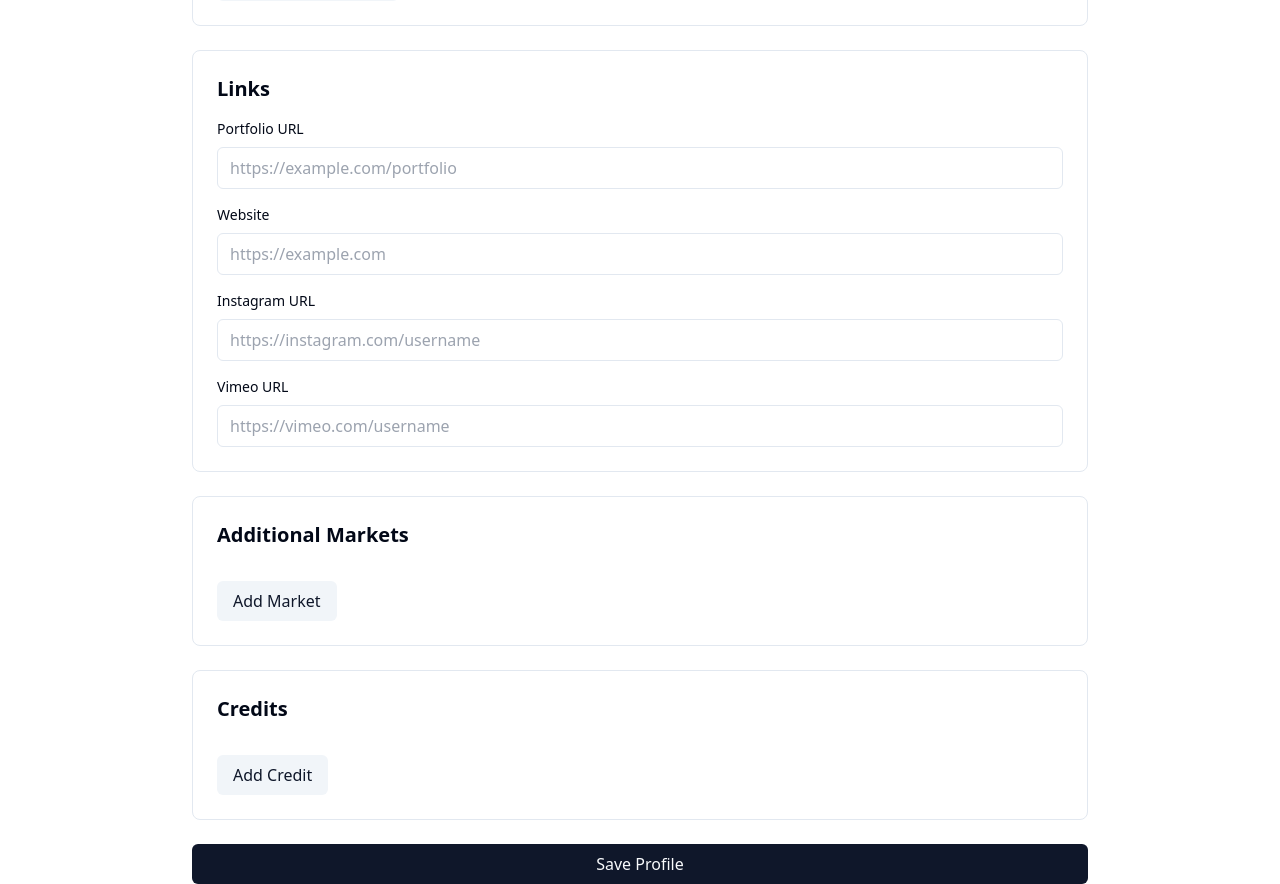
Test case: ProfileEditForm › should allow adding additional markets
This screenshot has width=1280, height=884.
(page scrolled)
Click the button "Add Market".
click(277, 601)  # box [217,581,336,621]
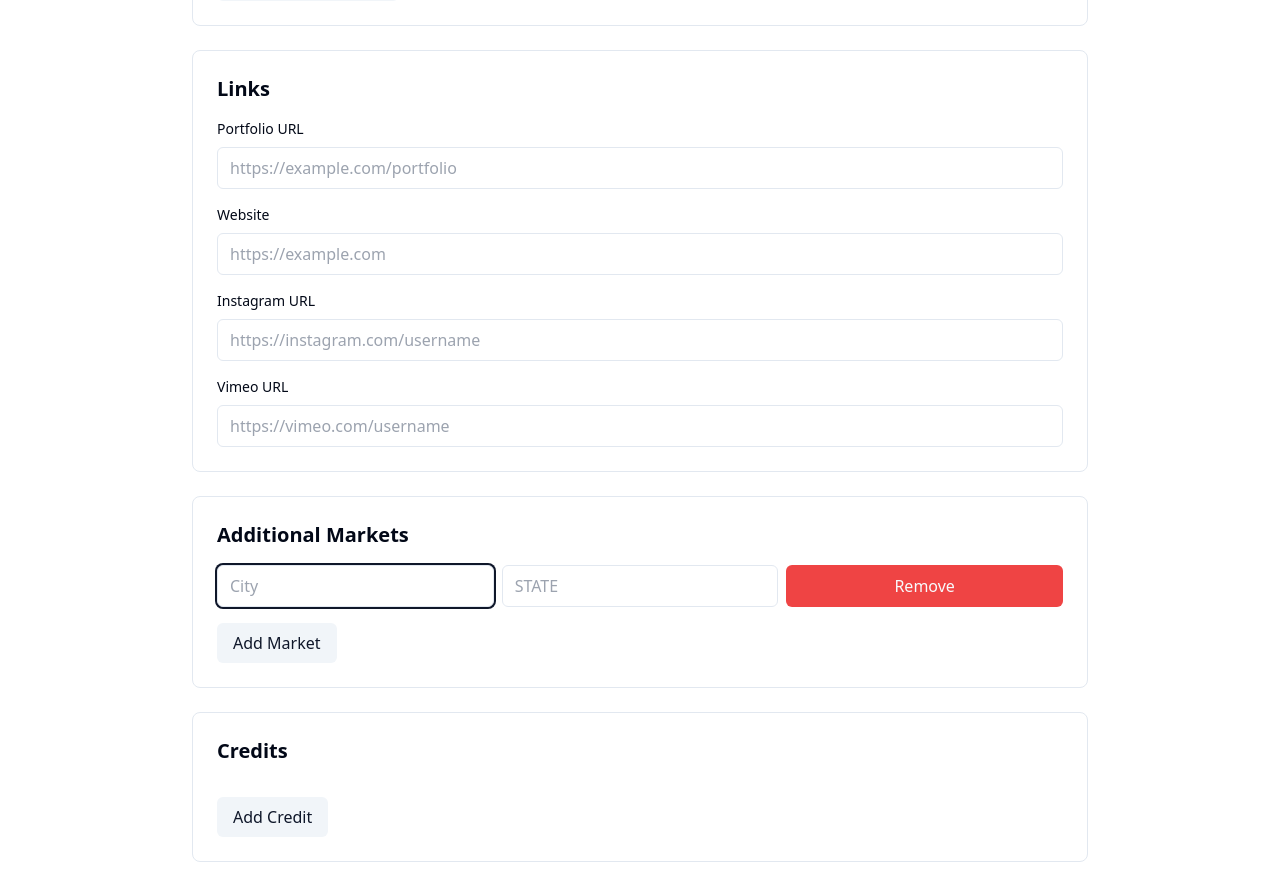
Now the field with placeholder "City" is shown, box [217,565,494,607]
Now the field with placeholder "State" is shown, box [502,565,778,607]
